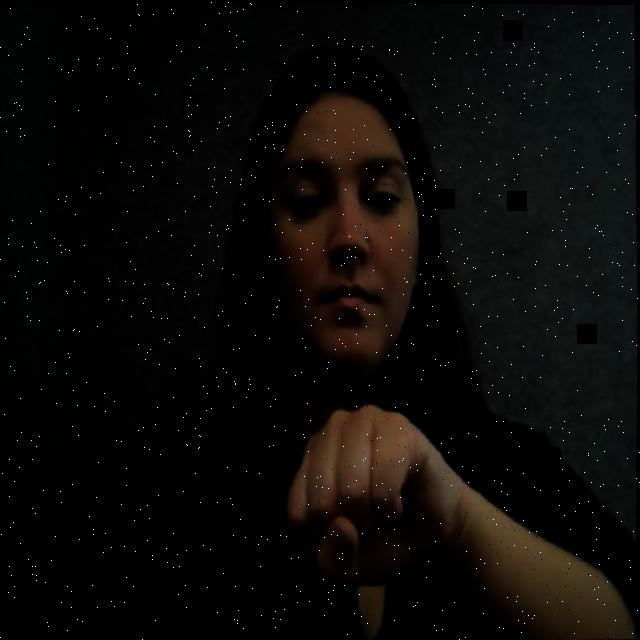Rock: (284, 394, 462, 597)
